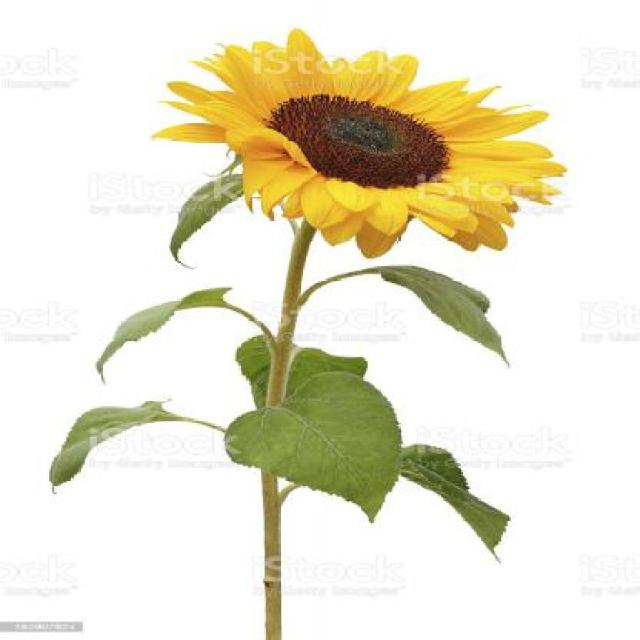sunflower: (124, 22, 564, 255)
